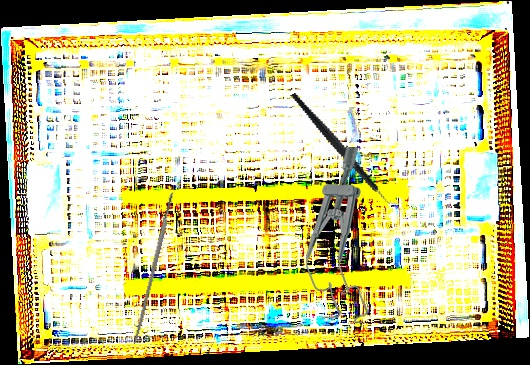Chopper: (289, 71, 401, 227)
Scalpel Handle: (132, 191, 176, 345)
Speculum: (304, 145, 372, 324)
